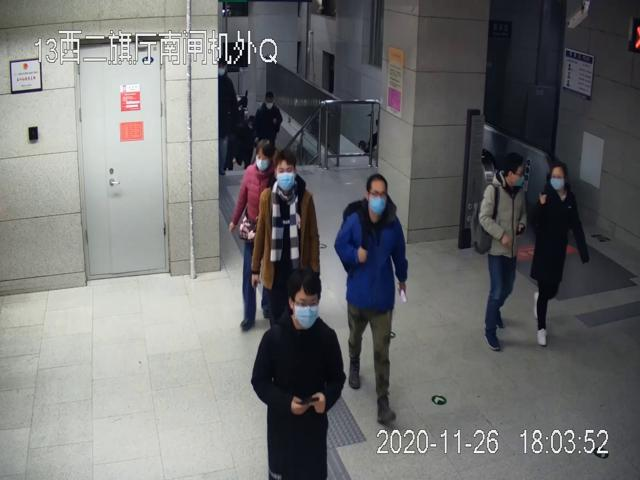person: (250, 266, 346, 480), (333, 172, 410, 426), (527, 150, 591, 350), (470, 149, 529, 358), (250, 160, 324, 315)
